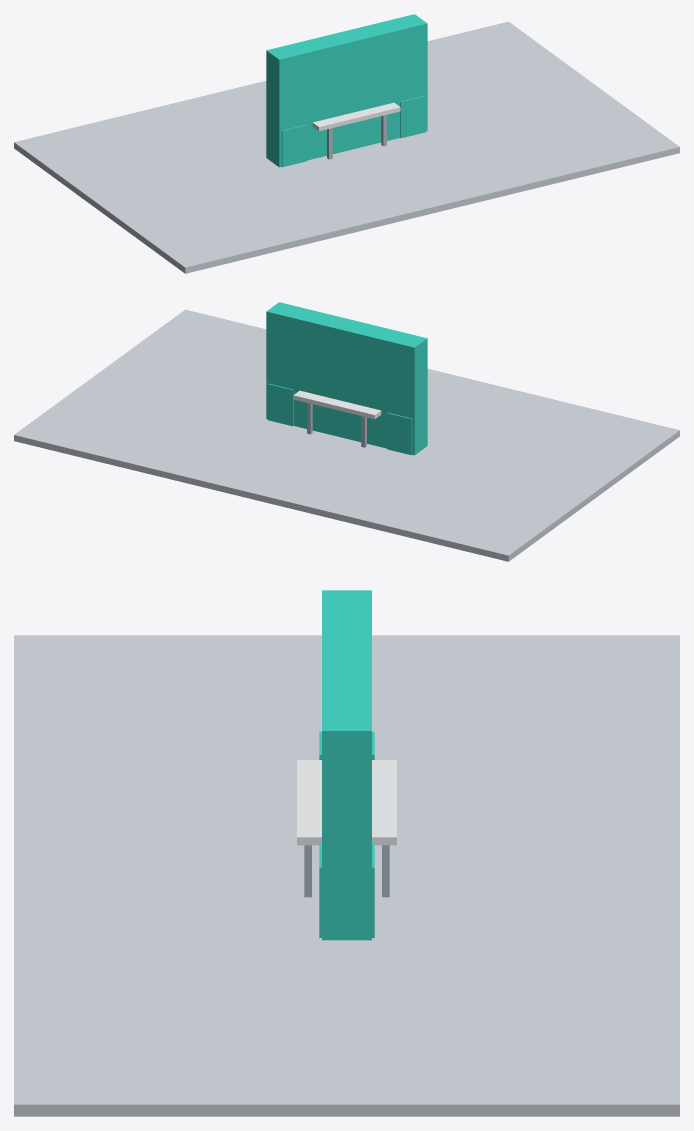
The picture shows the model from 3 angles, top to bottom: view 1: azimuth 30°, elevation 25°; view 2: azimuth 150°, elevation 25°; view 3: azimuth 270°, elevation 25°; orthographic projection. The views are drawn at different scales.
Parts seen in each view (by area): view 1: Exhibition Booth Concept; view 2: Exhibition Booth Concept; view 3: Exhibition Booth Concept.
Boxes of the visible parts, bbox=[...] form: Exhibition Booth Concept: bbox=[14, 14, 679, 273]; Exhibition Booth Concept: bbox=[14, 302, 679, 561]; Exhibition Booth Concept: bbox=[14, 590, 679, 1116].
Size of the model in its own units: 10 by 2.2 by 6.
